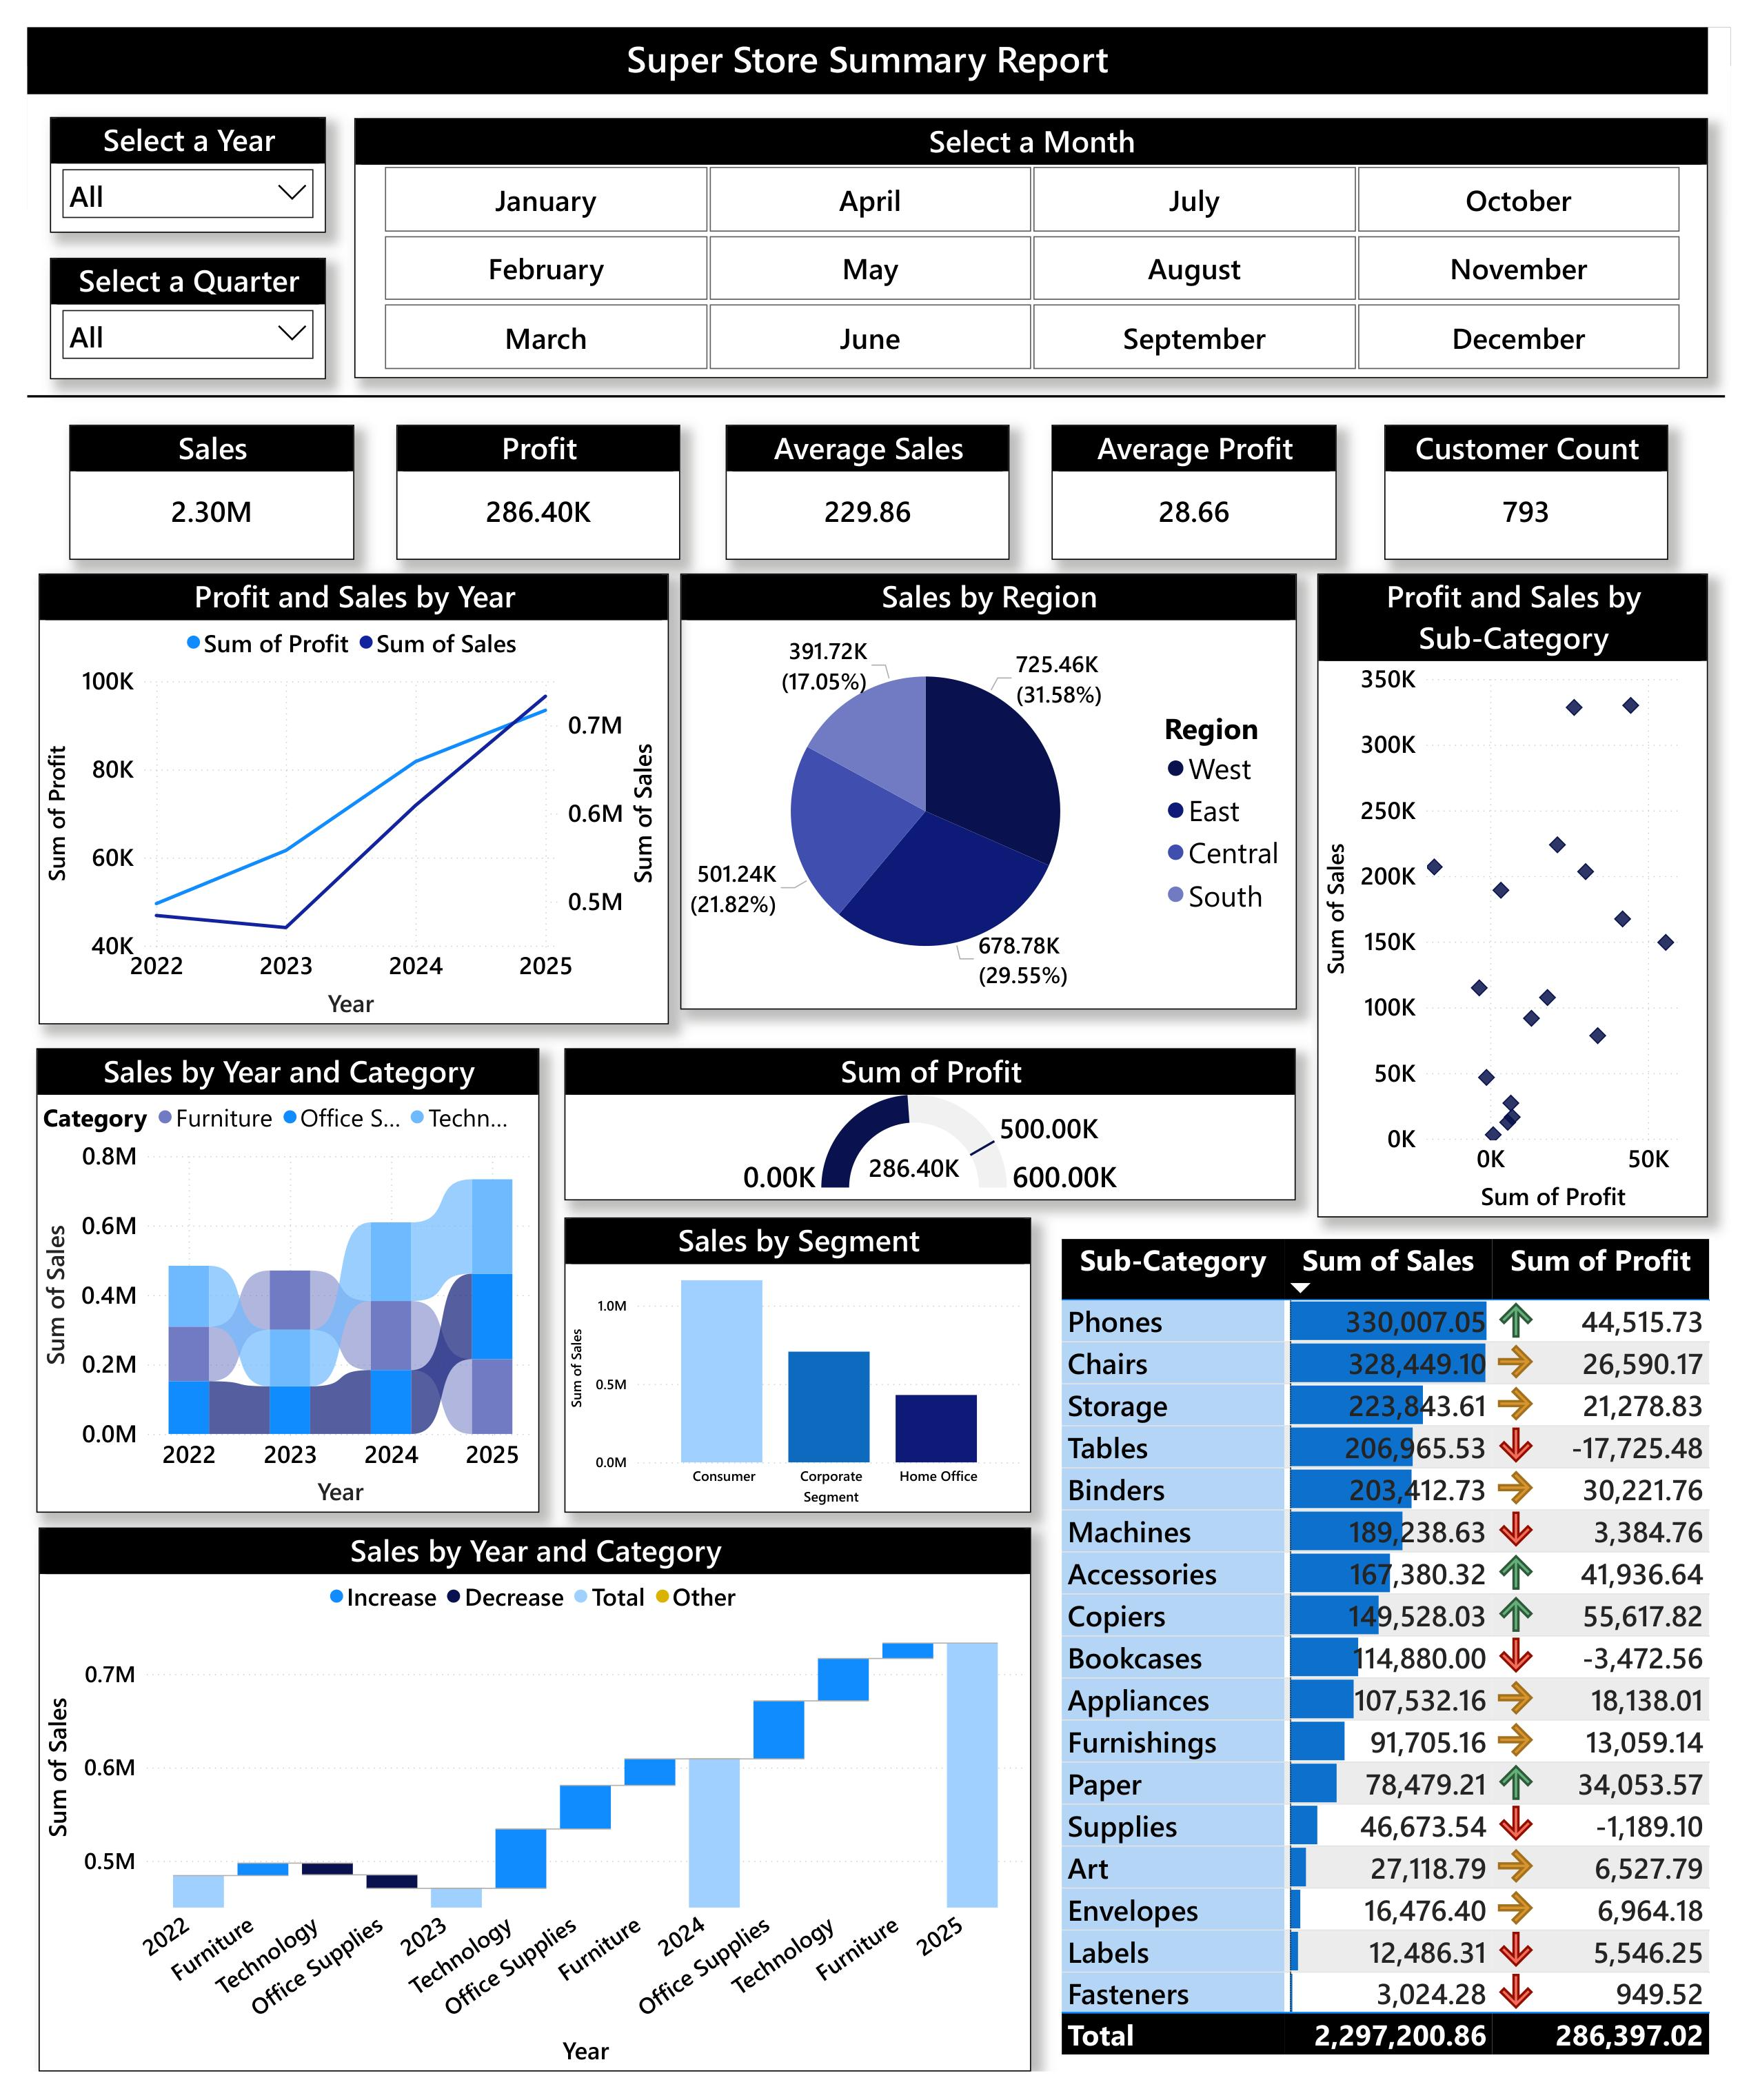

Layout of this report page (visuals, bound fields, positions):
{"tool":"powerbi","page":{"name":"Report","canvas":[1500,1800],"ordinal":0},"visuals":[{"type":"textbox","box":[0,0,1479.6,59.2],"z":0},{"type":"slicer","title":"Select a Year","fields":{"Values":["Sample - Superstore v1 - Copy.Order Date.Variation.Date Hierarchy.Year"]},"box":[19.8,79.3,243,101.7],"z":1000},{"type":"slicer","title":"Select a Month","fields":{"Values":["Sample - Superstore v1 - Copy.Order Date.Variation.Date Hierarchy.Month"]},"box":[288.3,80.2,1191.3,229.1],"z":2000},{"type":"slicer","title":"Select a Quarter","fields":{"Values":["Sample - Superstore v1 - Copy.Order Date.Variation.Date Hierarchy.Quarter"]},"box":[19.8,203.3,243,106.6],"z":3000},{"type":"shape","box":[0,257.9,1495,133.9],"z":4000},{"type":"card","title":"Sales","fields":{"Values":["Sum(Sample - Superstore v1 - Copy.Sales)"]},"box":[37.2,349.6,250.4,119],"z":5000},{"type":"card","title":"Profit","fields":{"Values":["Sum(Sample - Superstore v1 - Copy.Profit)"]},"box":[324.8,349.6,250.4,119],"z":6000},{"type":"card","title":"Average Sales","fields":{"Values":["Avg(Sample - Superstore v1 - Copy.Sales)"]},"box":[614.9,349.6,250.4,119],"z":7000},{"type":"card","title":"Average Profit","fields":{"Values":["Avg(Sample - Superstore v1 - Copy.Profit)"]},"box":[902.5,349.6,250.4,119],"z":8000},{"type":"card","title":"Customer Count","fields":{"Values":["Count(Sample - Superstore v1 - Copy.Customer ID)"]},"box":[1195,349.6,250.4,119],"z":9000},{"type":"tableEx","fields":{"Values":["Sample - Superstore v1 - Copy.Sub-Category","Sum(Sample - Superstore v1 - Copy.Sales)","Sum(Sample - Superstore v1 - Copy.Profit)"]},"box":[905,1061.5,582.3,738.9],"z":10000},{"type":"pieChart","title":"Sales by Region","fields":{"Category":["Sample - Superstore v1 - Copy.Region"],"Y":["Sum(Sample - Superstore v1 - Copy.Sales)"]},"box":[575.2,481,543,384.3],"z":11000},{"type":"ribbonChart","title":"Sales by Year and Category","fields":{"Category":["Sample - Superstore v1 - Copy.Order Date.Variation.Date Hierarchy.Year"],"Series":["Sample - Superstore v1 - Copy.Category"],"Y":["Sum(Sample - Superstore v1 - Copy.Sales)"]},"box":[7.6,899.2,442.9,408.6],"z":12000},{"type":"gauge","fields":{"Y":["Sum(Sample - Superstore v1 - Copy.Profit)"]},"box":[473.5,899.2,643.4,133.6],"z":13000},{"type":"lineChart","title":"Profit and Sales by Year","fields":{"Category":["Sample - Superstore v1 - Copy.Order Date.Variation.Date Hierarchy.Year"],"Y":["Sum(Sample - Superstore v1 - Copy.Profit)"],"Y2":["Sum(Sample - Superstore v1 - Copy.Sales)"]},"box":[9.5,481.1,555.6,397.1],"z":14000},{"type":"scatterChart","title":"Profit and Sales by Sub-Category","fields":{"Category":["Sample - Superstore v1 - Copy.Sub-Category"],"Y":["Sum(Sample - Superstore v1 - Copy.Sales)"],"X":["Sum(Sample - Superstore v1 - Copy.Profit)"]},"box":[1136,481.1,343.7,567],"z":15000},{"type":"columnChart","title":"Sales by Segment","fields":{"Category":["Sample - Superstore v1 - Copy.Segment"],"Y":["Sum(Sample - Superstore v1 - Copy.Sales)"]},"box":[473.5,1048.2,410.5,259.7],"z":16000},{"type":"waterfallChart","title":"Sales by Year and Category","fields":{"Category":["Sample - Superstore v1 - Copy.Order Date.Variation.Date Hierarchy.Year"],"Breakdown":["Sample - Superstore v1 - Copy.Category"],"Y":["Sum(Sample - Superstore v1 - Copy.Sales)"]},"box":[9.5,1321.2,874.4,479.2],"z":17000}]}

Visuals, with their boxes in screenshot pixels (x1, y1, x2, y2), scaled from the page's 1500x1800 canvas onto the 1749x2100 screenshot:
textbox: 0, 0, 1725, 69
"Select a Year" slicer: 23, 92, 306, 211
"Select a Month" slicer: 336, 94, 1725, 361
"Select a Quarter" slicer: 23, 237, 306, 361
shape: 0, 301, 1743, 457
"Sales" card: 43, 408, 335, 547
"Profit" card: 378, 408, 671, 547
"Average Sales" card: 717, 408, 1009, 547
"Average Profit" card: 1052, 408, 1344, 547
"Customer Count" card: 1393, 408, 1686, 547
tableEx - Sample - Superstore v1 - Copy.Sub-Category x Sum(Sample - Superstore v1 - Copy.Sales): 1055, 1238, 1735, 2099
"Sales by Region" pieChart: 671, 561, 1304, 1009
"Sales by Year and Category" ribbonChart: 9, 1049, 525, 1526
gauge - Sum(Sample - Superstore v1 - Copy.Profit): 552, 1049, 1302, 1205
"Profit and Sales by Year" lineChart: 11, 561, 659, 1024
"Profit and Sales by Sub-Category" scatterChart: 1324, 561, 1726, 1223
"Sales by Segment" columnChart: 552, 1223, 1031, 1526
"Sales by Year and Category" waterfallChart: 11, 1542, 1031, 2099
